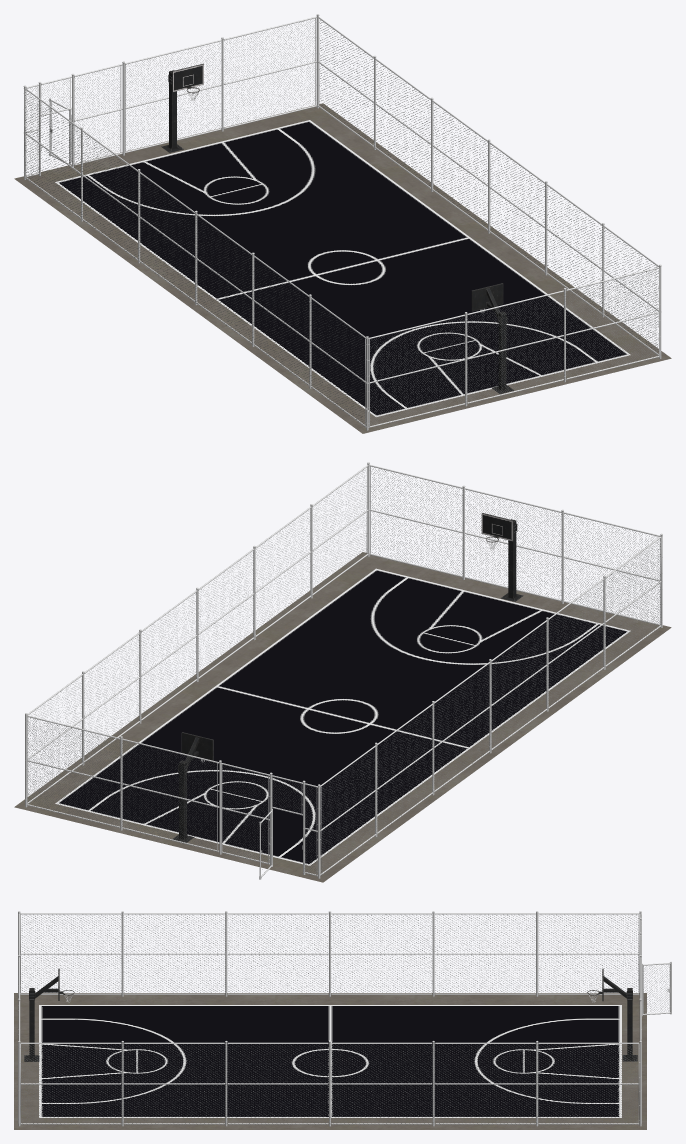
Rendered from BCourt_export.fbx.
The picture shows the model from 3 angles, top to bottom: view 1: azimuth 30°, elevation 25°; view 2: azimuth 150°, elevation 25°; view 3: azimuth 270°, elevation 25°; orthographic projection. The views are drawn at different scales.
Parts seen in each view (by area): view 1: Plane.030, Fence_Side, Fence_Side.001, Fence_Back, Fence_Front, Hoop, Hoop.001; view 2: Plane.030, Fence_Side, Fence_Side.001, Fence_Front, Fence_Back, Hoop.001, Hoop; view 3: Plane.030, Fence_Side.001, Fence_Side, Hoop.001, Hoop, Fence_Front_Door, Fence_Back, Fence_Front.
Part boxes in pixels (x1,y1,x2,y2): Plane.030: [14, 103, 671, 433]; Fence_Side: [24, 88, 366, 427]; Fence_Side.001: [318, 17, 659, 355]; Fence_Back: [365, 264, 661, 430]; Fence_Front: [23, 14, 319, 179]; Hoop: [471, 283, 513, 393]; Hoop.001: [161, 63, 203, 152]; Plane.030: [14, 552, 671, 882]; Fence_Side: [320, 536, 661, 875]; Fence_Side.001: [27, 465, 368, 803]; Fence_Front: [25, 713, 320, 878]; Fence_Back: [366, 462, 662, 627]; Hoop.001: [172, 732, 213, 842]; Hoop: [481, 513, 523, 601]; Plane.030: [14, 993, 646, 1129]; Fence_Side.001: [20, 1041, 639, 1126]; Fence_Side: [20, 911, 639, 996]; Hoop.001: [587, 968, 637, 1061]; Hoop: [24, 968, 74, 1061]; Fence_Front_Door: [642, 961, 671, 1016]; Fence_Back: [18, 911, 20, 1126]; Fence_Front: [639, 911, 641, 1126].
Bounding box in the file's own units: 1347 × 390 × 2737.
